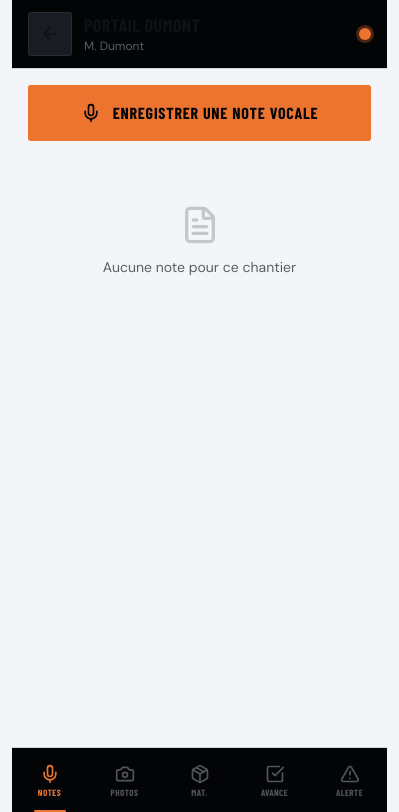
Test: Interface terrain (ouvrier) — viewport 375px › Navigation par onglets (page projet) › bascule vers Problème en 1 tap
This screenshot has width=399, height=812.
Click the button with test id "tab-probleme".
click(350, 780)  # box [312,748,387,811]
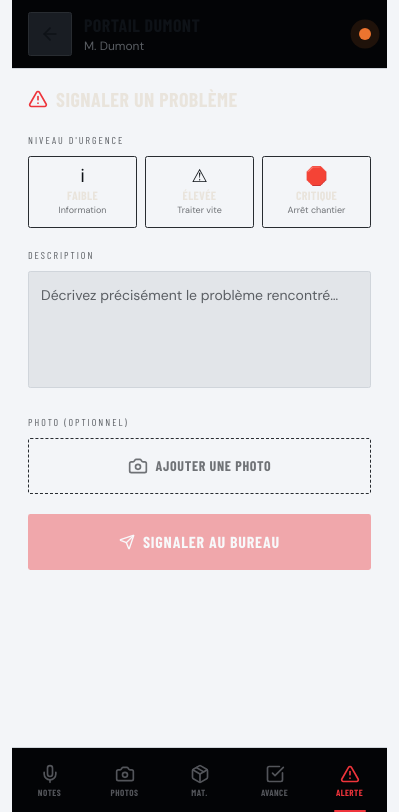
Now the button with test id "submit-probleme" is shown, box [28,514,371,570]
